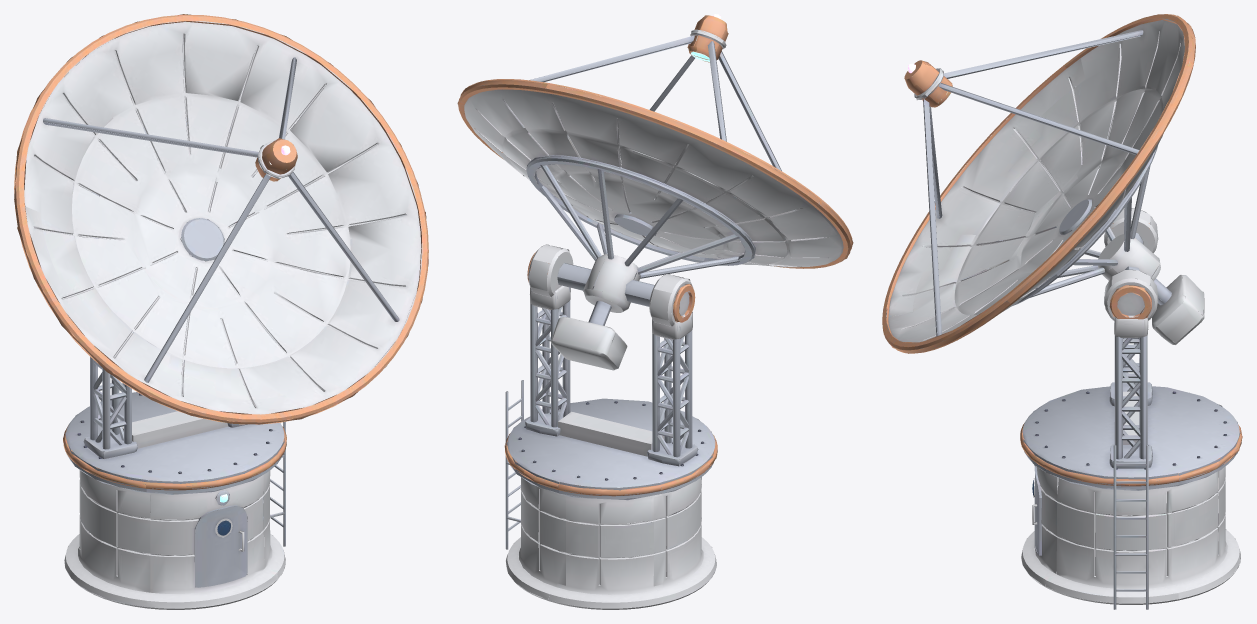
The model's file is radiotelescopio.glb.
3 views of the same model, side by side, from view 1: azimuth 30°, elevation 25°; view 2: azimuth 150°, elevation 25°; view 3: azimuth 270°, elevation 25° (orthographic). The views are drawn at different scales.
Visible parts, largest first — view 1: radio-telescope_body; view 2: radio-telescope_body; view 3: radio-telescope_body.
Boxes of the visible parts, x1,y1,x2,y2 form: radio-telescope_body: (14,14,428,609); radio-telescope_body: (457,14,853,609); radio-telescope_body: (882,14,1242,609).
Size of the model in its own units: 6.26 by 8.18 by 5.15.
5 materials, 2 textured.
